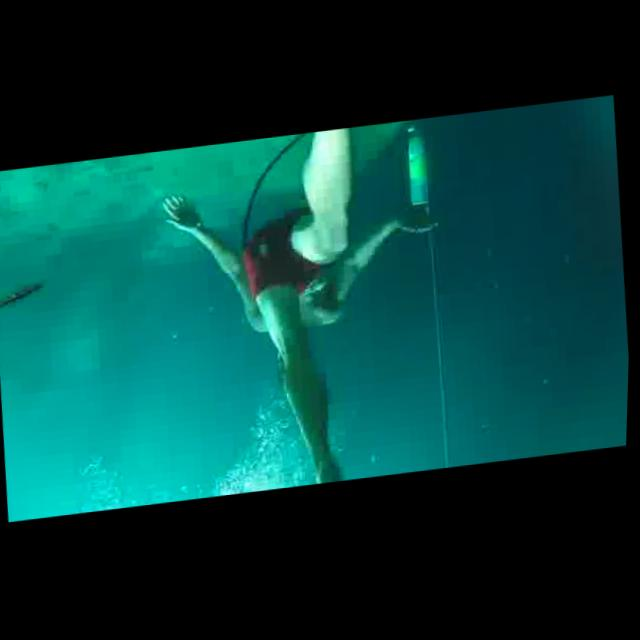human: (146, 119, 466, 503)
